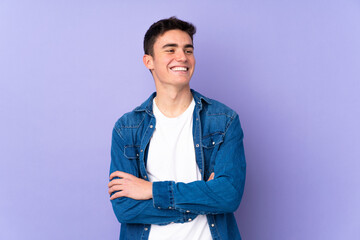teen: (138, 12, 213, 113)
